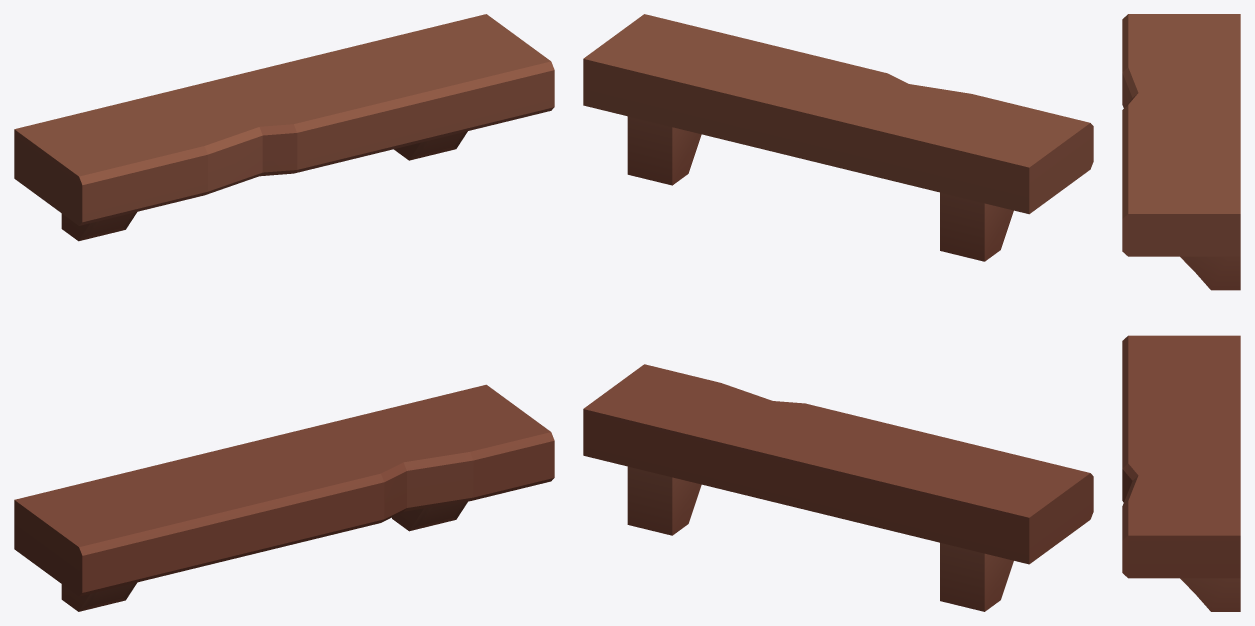
File: fw_shelves_oak.glb
The picture shows the model from 3 angles, left to right: view 1: azimuth 30°, elevation 25°; view 2: azimuth 150°, elevation 25°; view 3: azimuth 270°, elevation 25°; orthographic projection. The views are drawn at different scales.
Visible parts, largest first — view 1: body; view 2: body; view 3: body.
Part boxes in pixels (x1,y1,x2,y2): body: (14,14,554,611); body: (583,14,1093,611); body: (1122,14,1240,611).
Size of the model in its own units: 1.5 by 1.46 by 0.375.
